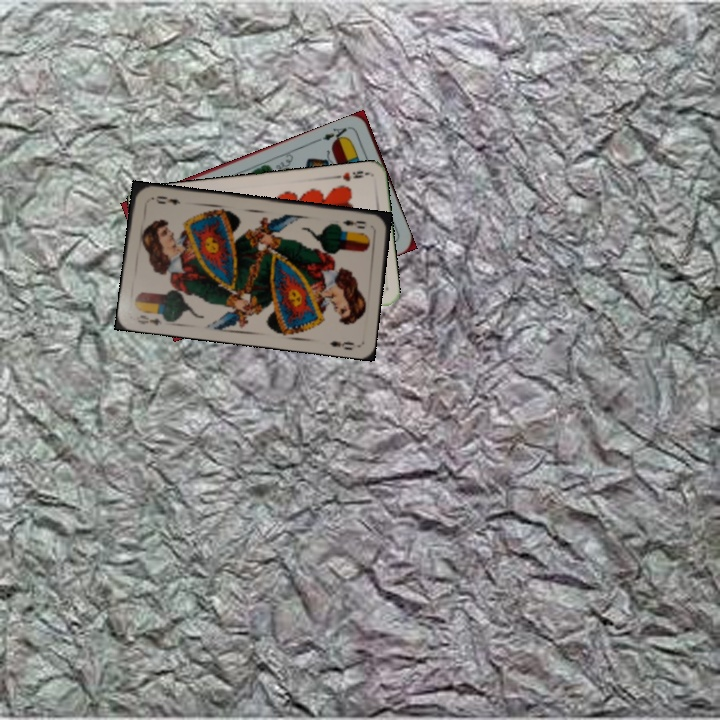EA: (314, 122, 353, 146)
EO: (132, 311, 165, 328), (339, 216, 369, 231)
H9: (330, 167, 370, 184)
